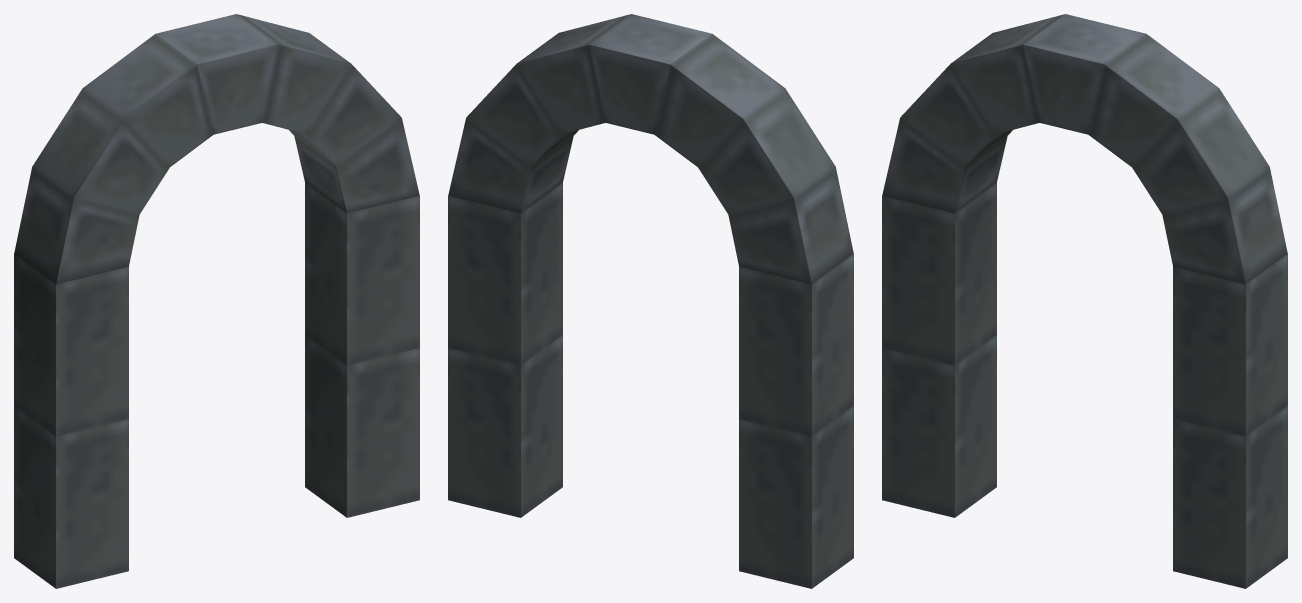
File: arch_high_02_blue.fbx
3 renders of one model, left to right at view 1: azimuth 30°, elevation 25°; view 2: azimuth 150°, elevation 25°; view 3: azimuth 330°, elevation 25°, orthographic.
Visible parts, largest first — view 1: arch_high_02_blue; view 2: arch_high_02_blue; view 3: arch_high_02_blue.
Boxes of the visible parts, box(x1,y1,x2,y2) form: arch_high_02_blue: box(14, 14, 419, 588); arch_high_02_blue: box(448, 14, 853, 588); arch_high_02_blue: box(882, 14, 1287, 588).
Size of the model in its own units: 40 by 51.5 by 8.
